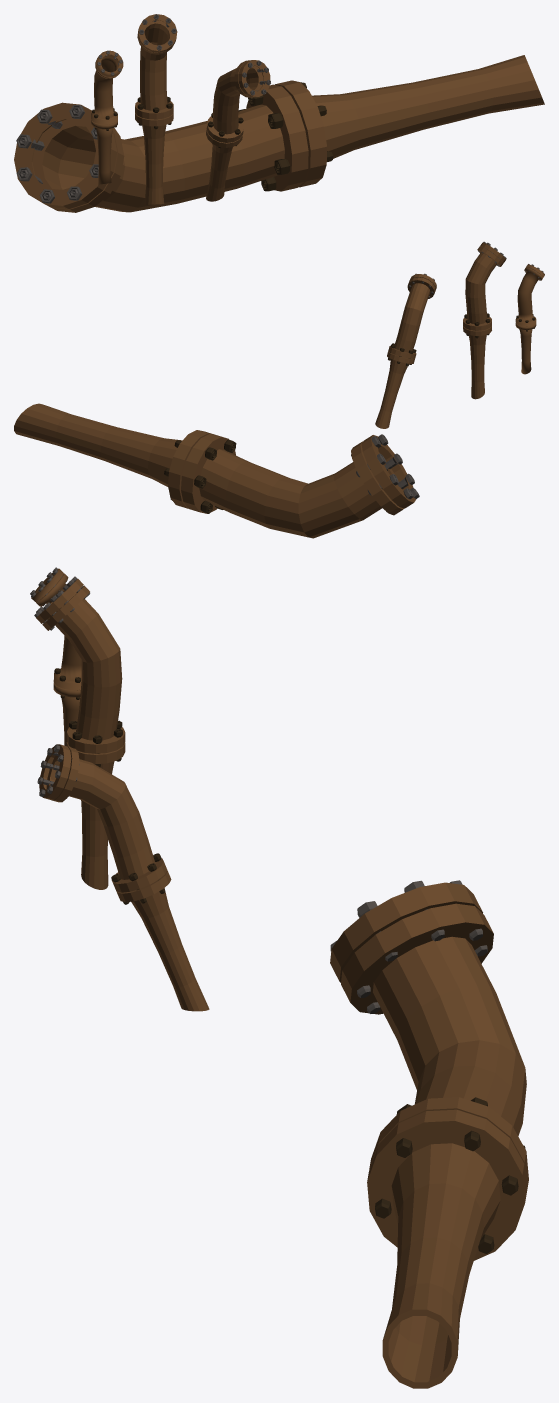
File: rustedpipe.fbx
The picture shows the model from 3 angles, top to bottom: view 1: azimuth 30°, elevation 25°; view 2: azimuth 150°, elevation 25°; view 3: azimuth 270°, elevation 25°; orthographic projection. The views are drawn at different scales.
Visible parts, largest first — view 1: pipe.003, pipe.002, pipe, pipe.001, bolts.003, screw.003; view 2: pipe.003, pipe.002, pipe, pipe.001, bolts.003, screw.003; view 3: pipe.003, pipe, pipe.002, pipe.001, screw.003, bolts.003.
Boxes of the visible parts, x1=… form: pipe.003: x1=14, y1=55, x2=544, y2=212; pipe.002: x1=135, y1=14, x2=177, y2=204; pipe: x1=206, y1=60, x2=270, y2=201; pipe.001: x1=91, y1=50, x2=123, y2=184; bolts.003: x1=16, y1=105, x2=98, y2=203; screw.003: x1=238, y1=82, x2=333, y2=191; pipe.003: x1=14, y1=403, x2=416, y2=538; pipe.002: x1=463, y1=241, x2=506, y2=399; pipe: x1=375, y1=273, x2=436, y2=428; pipe.001: x1=515, y1=264, x2=544, y2=374; bolts.003: x1=351, y1=434, x2=419, y2=511; screw.003: x1=164, y1=439, x2=236, y2=513; pipe.003: x1=330, y1=882, x2=528, y2=1388; pipe: x1=37, y1=744, x2=209, y2=1011; pipe.002: x1=34, y1=576, x2=125, y2=889; pipe.001: x1=30, y1=567, x2=81, y2=745; screw.003: x1=375, y1=1097, x2=525, y2=1253; bolts.003: x1=330, y1=880, x2=487, y2=1013.
Size of the model in its own units: 1804 by 976 by 908.
